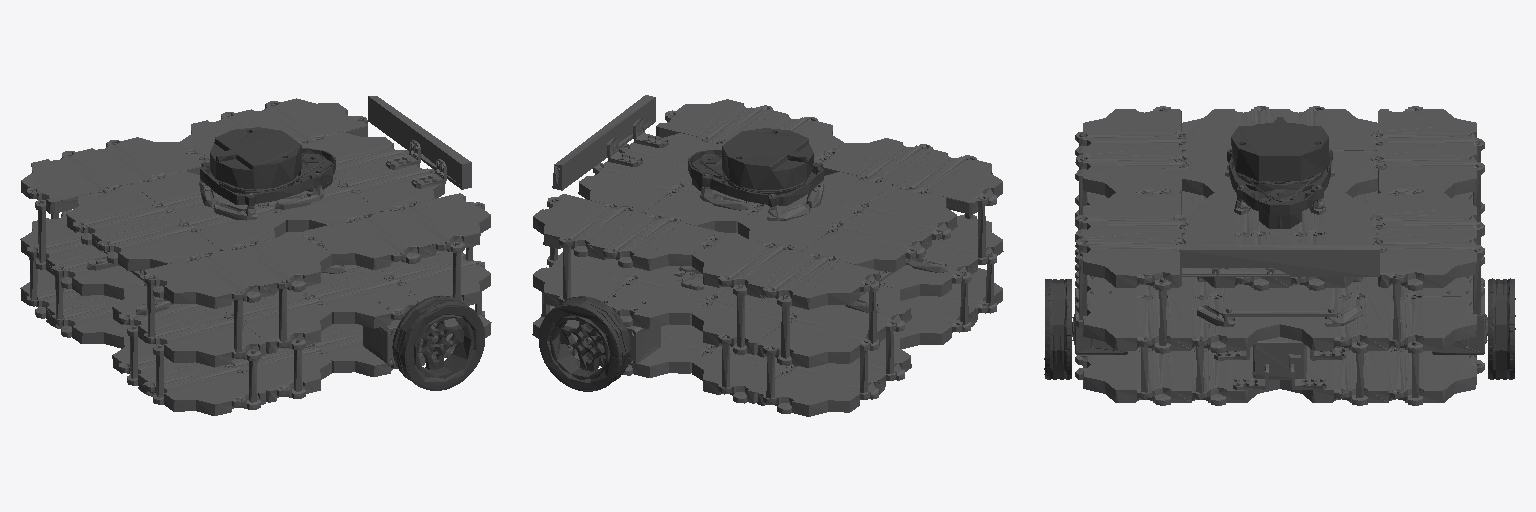
The robot description file, URDF, robot "turtlebot3_waffle":
<?xml version="1.0" ?>
<!-- =================================================================================== -->
<!-- |    This document was autogenerated by xacro from /tmp/claude-0/-home-claude/8f5dd28e-fe63-5f45-8f7e-d1a0395364a9/scratchpad/repos/tb3/turtlebot3_description/urdf/turtlebot3_waffle.urdf | -->
<!-- |    EDITING THIS FILE BY HAND IS NOT RECOMMENDED                                 | -->
<!-- =================================================================================== -->
<robot name="turtlebot3_waffle">
  <!-- Init colour -->
  <material name="black">
    <color rgba="0.0 0.0 0.0 1.0"/>
  </material>
  <material name="dark">
    <color rgba="0.3 0.3 0.3 1.0"/>
  </material>
  <material name="light_black">
    <color rgba="0.4 0.4 0.4 1.0"/>
  </material>
  <material name="blue">
    <color rgba="0.0 0.0 0.8 1.0"/>
  </material>
  <material name="green">
    <color rgba="0.0 0.8 0.0 1.0"/>
  </material>
  <material name="grey">
    <color rgba="0.5 0.5 0.5 1.0"/>
  </material>
  <material name="orange">
    <color rgba="1.0 0.4235 0.0392 1.0"/>
  </material>
  <material name="brown">
    <color rgba="0.8706 0.8118 0.7647 1.0"/>
  </material>
  <material name="red">
    <color rgba="0.8 0.0 0.0 1.0"/>
  </material>
  <material name="white">
    <color rgba="1.0 1.0 1.0 1.0"/>
  </material>
  <link name="base_footprint"/>
  <joint name="base_joint" type="fixed">
    <parent link="base_footprint"/>
    <child link="base_link"/>
    <origin rpy="0 0 0" xyz="0 0 0.010"/>
  </joint>
  <link name="base_link">
    <visual>
      <origin rpy="0 0 0" xyz="-0.064 0 0.0"/>
      <geometry>
        <mesh filename="package://turtlebot3_description/meshes/bases/waffle_base.stl" scale="0.001 0.001 0.001"/>
      </geometry>
      <material name="light_black"/>
    </visual>
    <collision>
      <origin rpy="0 0 0" xyz="-0.064 0 0.047"/>
      <geometry>
        <box size="0.266 0.266 0.094"/>
      </geometry>
    </collision>
    <inertial>
      <origin rpy="0 0 0" xyz="0 0 0"/>
      <mass value="1.3729096e+00"/>
      <inertia ixx="8.7002718e-03" ixy="-4.7576583e-05" ixz="1.1160499e-04" iyy="8.6195418e-03" iyz="-3.5422299e-06" izz="1.4612727e-02"/>
    </inertial>
  </link>
  <joint name="wheel_left_joint" type="continuous">
    <parent link="base_link"/>
    <child link="wheel_left_link"/>
    <origin rpy="-1.57 0 0" xyz="0.0 0.144 0.023"/>
    <axis xyz="0 0 1"/>
  </joint>
  <link name="wheel_left_link">
    <visual>
      <origin rpy="1.57 0 0" xyz="0 0 0"/>
      <geometry>
        <mesh filename="package://turtlebot3_description/meshes/wheels/left_tire.stl" scale="0.001 0.001 0.001"/>
      </geometry>
      <material name="dark"/>
    </visual>
    <collision>
      <origin rpy="0 0 0" xyz="0 0 0"/>
      <geometry>
        <cylinder length="0.018" radius="0.033"/>
      </geometry>
    </collision>
    <inertial>
      <origin xyz="0 0 0"/>
      <mass value="2.8498940e-02"/>
      <inertia ixx="1.1175580e-05" ixy="-4.2369783e-11" ixz="-5.9381719e-09" iyy="1.1192413e-05" iyz="-1.4400107e-11" izz="2.0712558e-05"/>
    </inertial>
  </link>
  <joint name="wheel_right_joint" type="continuous">
    <parent link="base_link"/>
    <child link="wheel_right_link"/>
    <origin rpy="-1.57 0 0" xyz="0.0 -0.144 0.023"/>
    <axis xyz="0 0 1"/>
  </joint>
  <link name="wheel_right_link">
    <visual>
      <origin rpy="1.57 0 0" xyz="0 0 0"/>
      <geometry>
        <mesh filename="package://turtlebot3_description/meshes/wheels/right_tire.stl" scale="0.001 0.001 0.001"/>
      </geometry>
      <material name="dark"/>
    </visual>
    <collision>
      <origin rpy="0 0 0" xyz="0 0 0"/>
      <geometry>
        <cylinder length="0.018" radius="0.033"/>
      </geometry>
    </collision>
    <inertial>
      <origin xyz="0 0 0"/>
      <mass value="2.8498940e-02"/>
      <inertia ixx="1.1175580e-05" ixy="-4.2369783e-11" ixz="-5.9381719e-09" iyy="1.1192413e-05" iyz="-1.4400107e-11" izz="2.0712558e-05"/>
    </inertial>
  </link>
  <joint name="caster_back_right_joint" type="fixed">
    <parent link="base_link"/>
    <child link="caster_back_right_link"/>
    <origin rpy="-1.57 0 0" xyz="-0.177 -0.064 -0.004"/>
  </joint>
  <link name="caster_back_right_link">
    <collision>
      <origin rpy="0 0 0" xyz="0 0.001 0"/>
      <geometry>
        <box size="0.030 0.009 0.020"/>
      </geometry>
    </collision>
    <inertial>
      <origin xyz="0 0 0"/>
      <mass value="0.005"/>
      <inertia ixx="0.001" ixy="0.0" ixz="0.0" iyy="0.001" iyz="0.0" izz="0.001"/>
    </inertial>
  </link>
  <joint name="caster_back_left_joint" type="fixed">
    <parent link="base_link"/>
    <child link="caster_back_left_link"/>
    <origin rpy="-1.57 0 0" xyz="-0.177 0.064 -0.004"/>
  </joint>
  <link name="caster_back_left_link">
    <collision>
      <origin rpy="0 0 0" xyz="0 0.001 0"/>
      <geometry>
        <box size="0.030 0.009 0.020"/>
      </geometry>
    </collision>
    <inertial>
      <origin xyz="0 0 0"/>
      <mass value="0.005"/>
      <inertia ixx="0.001" ixy="0.0" ixz="0.0" iyy="0.001" iyz="0.0" izz="0.001"/>
    </inertial>
  </link>
  <joint name="imu_joint" type="fixed">
    <parent link="base_link"/>
    <child link="imu_link"/>
    <origin rpy="0 0 0" xyz="0.0 0 0.068"/>
  </joint>
  <link name="imu_link"/>
  <joint name="scan_joint" type="fixed">
    <parent link="base_link"/>
    <child link="base_scan"/>
    <origin rpy="0 0 0" xyz="-0.064 0 0.122"/>
  </joint>
  <link name="base_scan">
    <visual>
      <origin rpy="0 0 0" xyz="0 0 0"/>
      <geometry>
        <mesh filename="package://turtlebot3_description/meshes/sensors/lds.stl" scale="0.001 0.001 0.001"/>
      </geometry>
      <material name="dark"/>
    </visual>
    <collision>
      <origin rpy="0 0 0" xyz="0.015 0 -0.0065"/>
      <geometry>
        <cylinder length="0.0315" radius="0.055"/>
      </geometry>
    </collision>
    <inertial>
      <mass value="0.114"/>
      <origin xyz="0 0 0"/>
      <inertia ixx="0.001" ixy="0.0" ixz="0.0" iyy="0.001" iyz="0.0" izz="0.001"/>
    </inertial>
  </link>
  <joint name="camera_joint" type="fixed">
    <origin rpy="0 0 0" xyz="0.064 -0.065 0.094"/>
    <parent link="base_link"/>
    <child link="camera_link"/>
  </joint>
  <link name="camera_link">
    <visual>
      <origin rpy="1.57 0 1.57" xyz="0 0 0"/>
      <geometry>
        <mesh filename="package://turtlebot3_description/meshes/sensors/r200.dae"/>
      </geometry>
    </visual>
    <collision>
      <origin rpy="0 0 0" xyz="0.003 0.065 0.007"/>
      <geometry>
        <box size="0.012 0.132 0.020"/>
      </geometry>
    </collision>
    <!-- This inertial field needs doesn't contain reliable data!! -->
    <!--   <inertial>
      <mass value="0.564" />
      <origin xyz="0 0 0" />
      <inertia ixx="0.003881243" ixy="0.0" ixz="0.0"
               iyy="0.000498940" iyz="0.0"
               izz="0.003879257" />
    </inertial>-->
  </link>
  <joint name="camera_rgb_joint" type="fixed">
    <origin rpy="0 0 0" xyz="0.005 0.018 0.013"/>
    <!-- <origin xyz="${r200_cam_rgb_px} ${r200_cam_rgb_py} ${r200_cam_rgb_pz}" rpy="0 0 0"/> -->
    <parent link="camera_link"/>
    <child link="camera_rgb_frame"/>
  </joint>
  <link name="camera_rgb_frame"/>
  <joint name="camera_rgb_optical_joint" type="fixed">
    <origin rpy="-1.57 0 -1.57" xyz="0 0 0"/>
    <parent link="camera_rgb_frame"/>
    <child link="camera_rgb_optical_frame"/>
  </joint>
  <link name="camera_rgb_optical_frame"/>
  <joint name="camera_depth_joint" type="fixed">
    <origin rpy="0 0 0" xyz="0.005 0.028 0.013"/>
    <!-- <origin xyz="${r200_cam_rgb_px} ${r200_cam_rgb_py + r200_cam_depth_offset} ${r200_cam_rgb_pz}" rpy="0 0 0"/> -->
    <parent link="camera_link"/>
    <child link="camera_depth_frame"/>
  </joint>
  <link name="camera_depth_frame"/>
  <joint name="camera_depth_optical_joint" type="fixed">
    <origin rpy="-1.57 0 -1.57" xyz="0 0 0"/>
    <parent link="camera_depth_frame"/>
    <child link="camera_depth_optical_frame"/>
  </joint>
  <link name="camera_depth_optical_frame"/>
</robot>

--- What the picture shows (computed from the rendered views, not written in the file) ---
Views: 3 orthographic renders of the robot side by side, from view 1: azimuth 30°, elevation 25°; view 2: azimuth 150°, elevation 25°; view 3: azimuth 270°, elevation 25°.
Model turtlebot3_waffle with 13 links and 12 joints (2 continuous, 10 fixed), rooted at base_footprint, posed every joint at zero.
Links seen in each view (by area): view 1: base_link, base_scan, wheel_right_link; view 2: base_link, base_scan, wheel_left_link; view 3: base_link, base_scan, wheel_left_link, wheel_right_link.
Link boxes in pixels (<box>): base_link: <box>20,96,491,415</box>; base_scan: <box>200,127,335,205</box>; wheel_right_link: <box>392,295,484,390</box>; base_link: <box>532,95,1003,416</box>; base_scan: <box>688,128,823,206</box>; wheel_left_link: <box>539,296,631,391</box>; base_link: <box>1072,106,1487,405</box>; base_scan: <box>1227,117,1332,228</box>; wheel_left_link: <box>1488,278,1515,379</box>; wheel_right_link: <box>1044,279,1071,379</box>.
Bounding box of the posed robot: 0.2713 × 0.3061 × 0.1411 m (x, y, z).
Meshes: 5 distinct files referenced, 4 mesh visuals loaded (4 binary STL); not drawn: 1 (reference not matched to a file when rendering).
